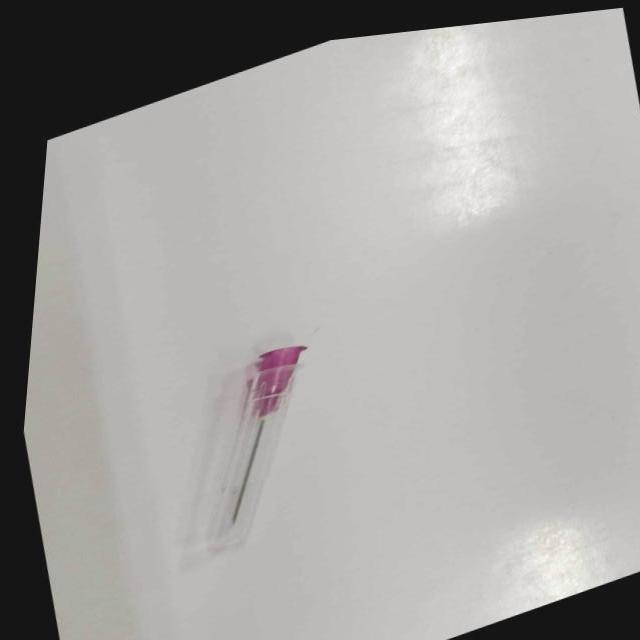General: (244, 344, 309, 422)
Pathological: (20, 7, 640, 639)
Sharps: (201, 344, 310, 555)
